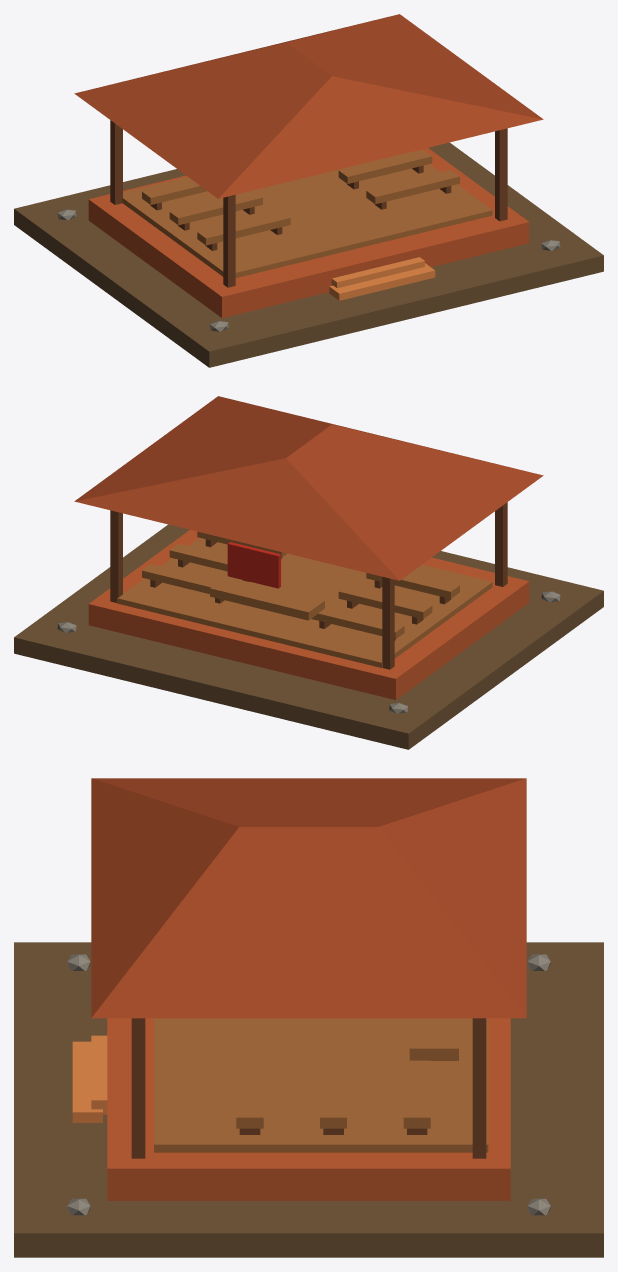
The model's file is village_hall.glb.
3 renders of one model, top to bottom at view 1: azimuth 30°, elevation 25°; view 2: azimuth 150°, elevation 25°; view 3: azimuth 270°, elevation 25°, orthographic. The views are drawn at different scales.
Visible parts, largest first — view 1: VillageHallRoof, Building_Base, HallFloor, VillageHallFloor, MeetingBench.003, MeetingBench.001, BrickStep, MeetingBench, MeetingBench.002, VillageHallPost, VillageHallPost.002, BrickStep.001 (+2 smaller); view 2: VillageHallRoof, Building_Base, VillageHallFloor, HallFloor, SpeakerTable, VillageEmblem, MeetingBench.002, MeetingBench.004, VillageHallPost.001, VillageHallPost.003, MeetingBench.005, VillageHallPost (+2 smaller); view 3: VillageHallRoof, Building_Base, HallFloor, VillageHallFloor, SpeakerTable, VillageHallPost.002, VillageHallPost.003, MeetingBench.001, MeetingBench.003, MeetingBench.005, BrickStep, BrickStep.001.
Boxes of the visible parts, x1=… form: VillageHallRoof: x1=74, y1=14, x2=543, y2=198; Building_Base: x1=14, y1=142, x2=603, y2=367; HallFloor: x1=122, y1=151, x2=492, y2=277; VillageHallFloor: x1=88, y1=148, x2=529, y2=317; MeetingBench.003: x1=338, y1=150, x2=432, y2=183; MeetingBench.001: x1=366, y1=170, x2=459, y2=204; BrickStep: x1=329, y1=263, x2=435, y2=300; MeetingBench: x1=197, y1=211, x2=290, y2=245; MeetingBench.002: x1=169, y1=191, x2=262, y2=225; VillageHallPost: x1=223, y1=194, x2=235, y2=287; VillageHallPost.002: x1=495, y1=128, x2=507, y2=221; BrickStep.001: x1=331, y1=257, x2=424, y2=288; VillageHallRoof: x1=74, y1=396, x2=543, y2=580; Building_Base: x1=14, y1=524, x2=603, y2=749; VillageHallFloor: x1=88, y1=530, x2=529, y2=699; HallFloor: x1=117, y1=538, x2=492, y2=667; SpeakerTable: x1=210, y1=576, x2=324, y2=620; VillageEmblem: x1=227, y1=542, x2=280, y2=588; MeetingBench.002: x1=338, y1=585, x2=432, y2=618; MeetingBench.004: x1=311, y1=606, x2=404, y2=639; VillageHallPost.001: x1=382, y1=576, x2=394, y2=669; VillageHallPost.003: x1=110, y1=510, x2=122, y2=602; MeetingBench.005: x1=142, y1=564, x2=219, y2=593; VillageHallPost: x1=495, y1=502, x2=507, y2=586; VillageHallRoof: x1=91, y1=778, x2=526, y2=1018; Building_Base: x1=14, y1=942, x2=603, y2=1257; HallFloor: x1=154, y1=1018, x2=488, y2=1152; VillageHallFloor: x1=107, y1=1018, x2=510, y2=1200; SpeakerTable: x1=409, y1=1018, x2=458, y2=1060; VillageHallPost.002: x1=131, y1=1018, x2=145, y2=1158; VillageHallPost.003: x1=472, y1=1018, x2=486, y2=1158; MeetingBench.001: x1=236, y1=1055, x2=263, y2=1128; MeetingBench.003: x1=320, y1=1055, x2=346, y2=1128; MeetingBench.005: x1=403, y1=1055, x2=430, y2=1128; BrickStep: x1=72, y1=1041, x2=102, y2=1122; BrickStep.001: x1=91, y1=1035, x2=107, y2=1114.
Bounding box in the file's own units: 14 × 6.4 × 12.
